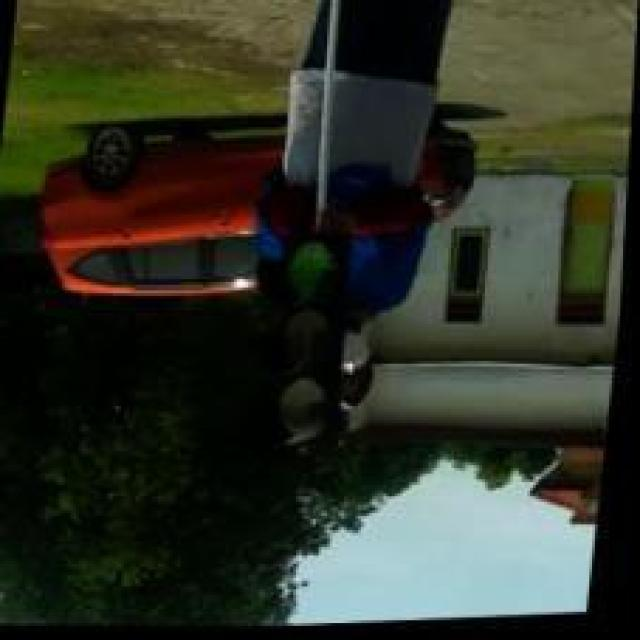green_light: (245, 226, 364, 451)
